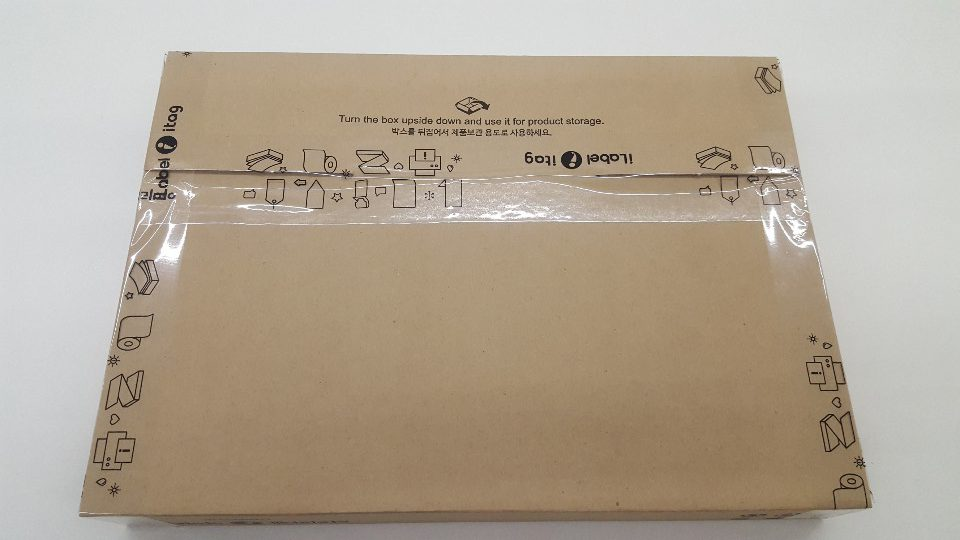undamaged: (81, 59, 874, 515)
